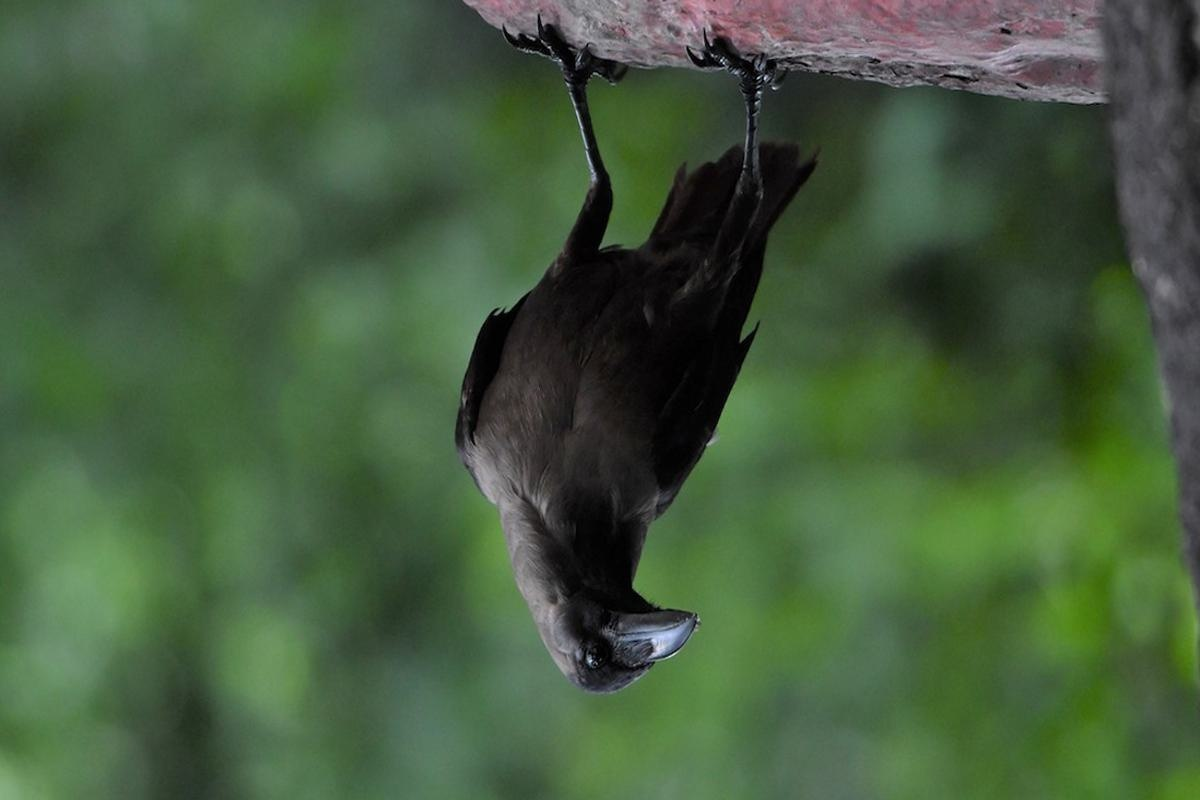crow: (418, 51, 829, 696)
